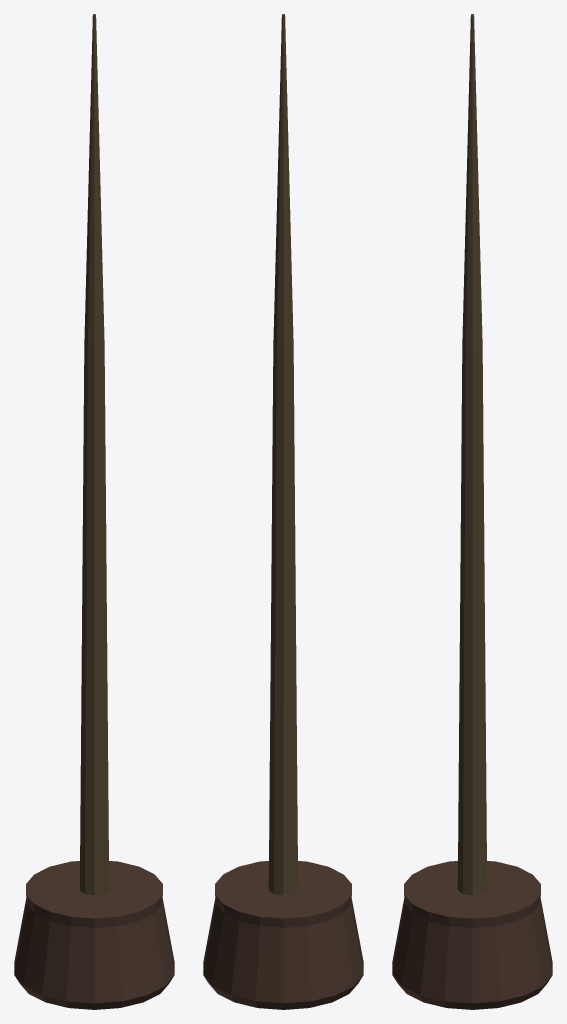
The model's file is pineHigh.glb.
3 views of the same model, side by side, from view 1: azimuth 30°, elevation 25°; view 2: azimuth 150°, elevation 25°; view 3: azimuth 270°, elevation 25° (orthographic).
Parts seen in each view (by area): view 1: pineHigh; view 2: pineHigh; view 3: pineHigh.
Boxes of the visible parts, left/top/right/bottom form: pineHigh: left=14, top=14, right=174, bottom=1009; pineHigh: left=203, top=14, right=363, bottom=1009; pineHigh: left=392, top=14, right=552, bottom=1009.
Bounding box in the file's own units: 0.3 × 1.96 × 0.2955.
